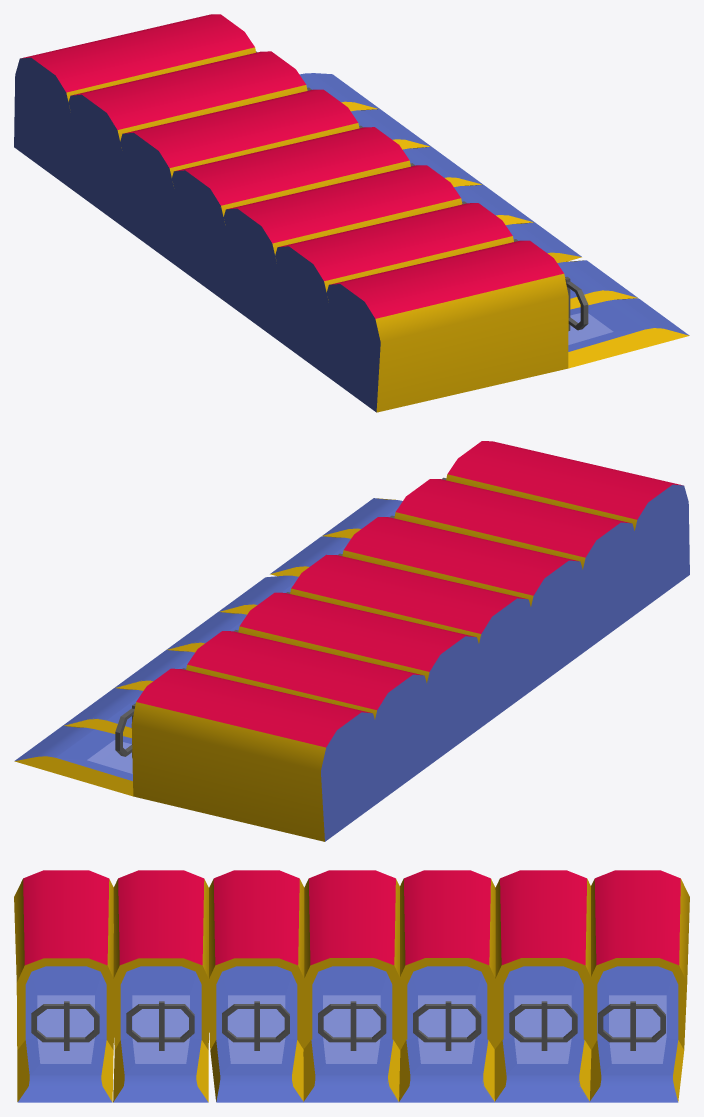
The model's file is rat cage.fbx.
3 renders of one model, top to bottom at view 1: azimuth 30°, elevation 25°; view 2: azimuth 150°, elevation 25°; view 3: azimuth 270°, elevation 25°, orthographic. The views are drawn at different scales.
Visible parts, largest first — view 1: pCube14, pCube15, pCube9, pCube4, pCube10; view 2: pCube14, pCube15, pCube9, pCube4; view 3: pCube14, pCube15, pCube4, pCube9, pCube5, pCube8, pCube3, pCube13, pCube10, pCube7, pCube16.
Boxes of the visible parts, <box> form: pCube14: <box>14,14,689,412</box>; pCube15: <box>65,52,431,223</box>; pCube9: <box>171,127,483,228</box>; pCube4: <box>118,89,430,190</box>; pCube10: <box>565,276,588,330</box>; pCube14: <box>14,441,689,841</box>; pCube15: <box>63,631,430,803</box>; pCube9: <box>166,572,532,653</box>; pCube4: <box>115,610,480,691</box>; pCube14: <box>14,870,689,1102</box>; pCube15: <box>494,870,592,1102</box>; pCube4: <box>398,870,497,1102</box>; pCube9: <box>303,870,402,1102</box>; pCube5: <box>413,1001,481,1050</box>; pCube8: <box>318,1001,386,1050</box>; pCube3: <box>509,1001,577,1050</box>; pCube13: <box>126,1001,194,1050</box>; pCube10: <box>31,1001,99,1050</box>; pCube7: <box>222,1001,289,1050</box>; pCube16: <box>598,1001,665,1050</box>.
Bounding box in the file's own units: 17.08 × 5.33 × 34.46.
